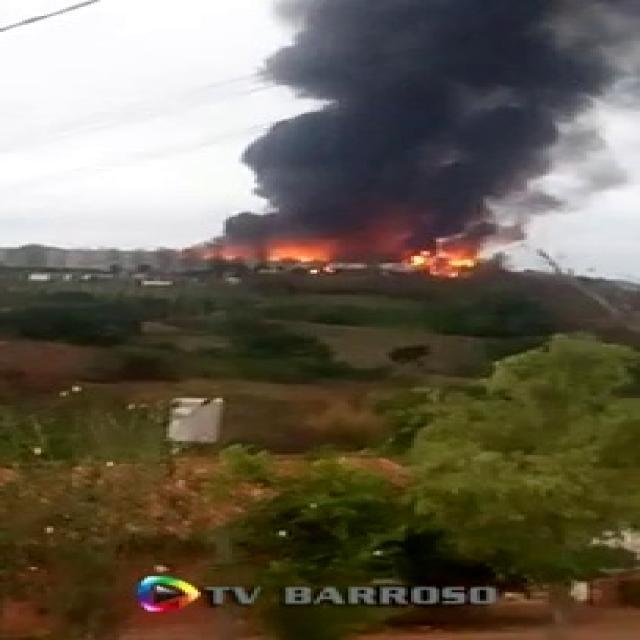Fire: (260, 239, 348, 277), (410, 244, 476, 274)
Smoke: (198, 0, 640, 264)
